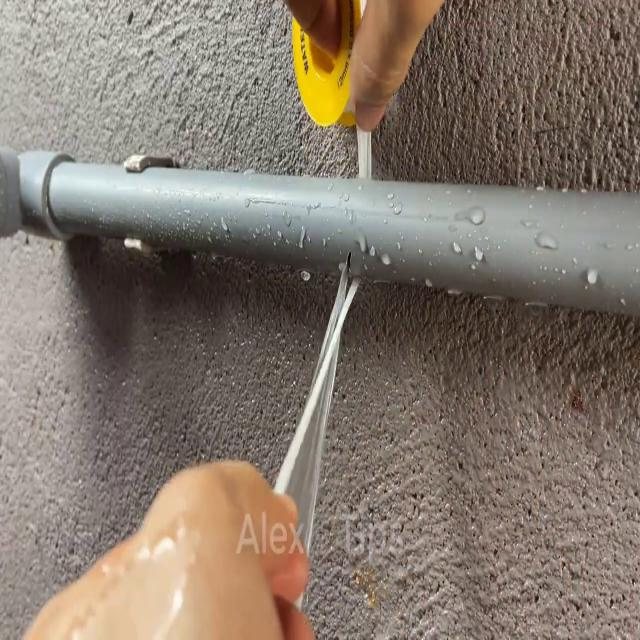leak: (275, 257, 349, 611)
